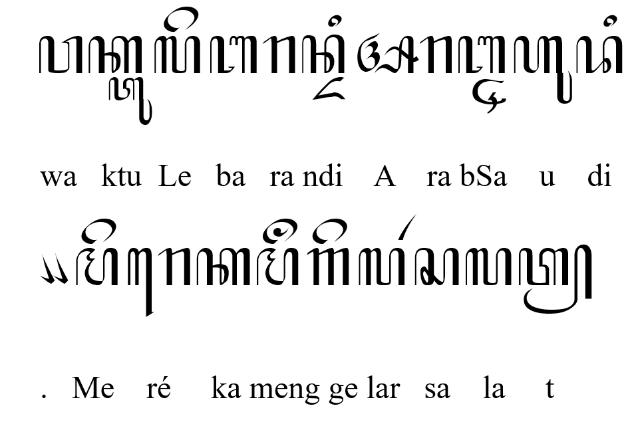-t: (518, 243, 594, 314)
A: (356, 32, 418, 74)
_T: (472, 78, 506, 114)
_d: (312, 76, 346, 100)
_r1: (397, 214, 418, 241)
b: (210, 35, 258, 76), (458, 35, 506, 75)
d: (575, 36, 623, 74)
e: (80, 219, 118, 246), (312, 217, 348, 245), (163, 5, 199, 32)
e1: (126, 247, 154, 317)
eng: (261, 218, 297, 244)
g: (308, 247, 350, 286)
hu: (513, 36, 573, 105)
i: (328, 14, 342, 28), (602, 14, 618, 26)
k: (195, 247, 252, 287), (88, 36, 144, 74)
kom: (37, 253, 54, 285), (54, 252, 68, 284)
l: (154, 35, 202, 75), (358, 247, 406, 287), (465, 248, 513, 288)
m: (256, 247, 300, 287), (75, 247, 119, 286)
n: (301, 34, 345, 74)
r: (158, 247, 192, 287), (262, 36, 296, 74), (420, 36, 452, 74)
s: (414, 247, 460, 286)
tu: (108, 78, 152, 127)
w: (37, 36, 84, 74)
